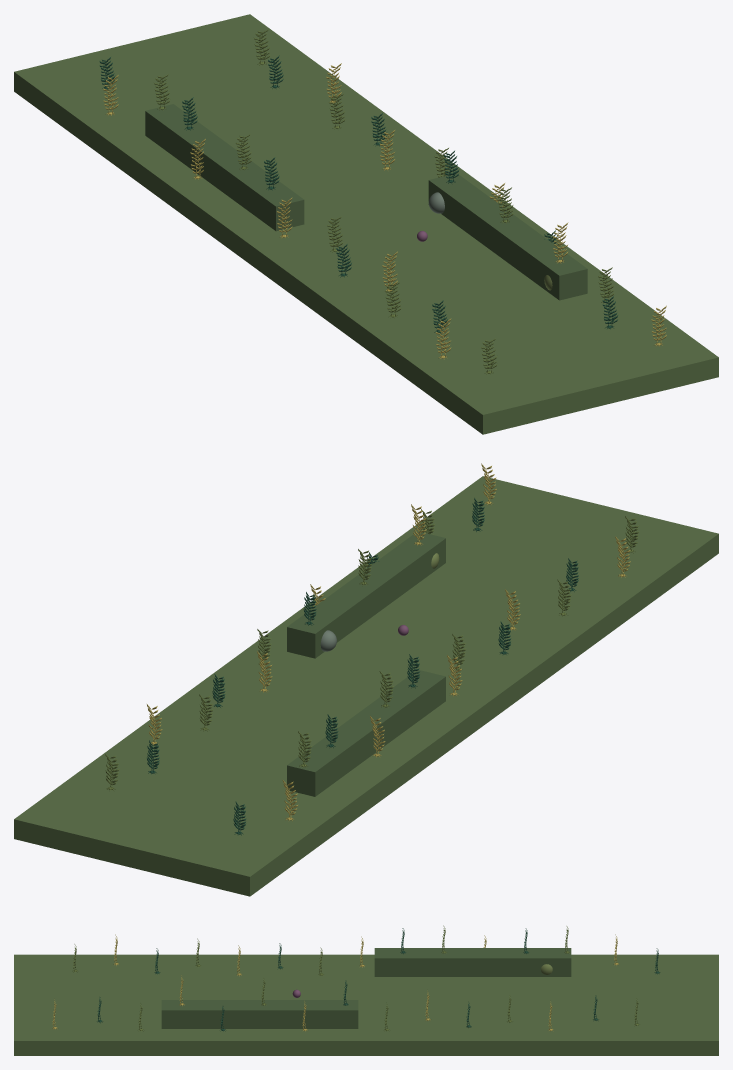
File: kelpworks.visual.glb
3 renders of one model, top to bottom at view 1: azimuth 30°, elevation 25°; view 2: azimuth 150°, elevation 25°; view 3: azimuth 270°, elevation 25°, orthographic. The views are drawn at different scales.
Visible parts, largest first — view 1: kelp-seabed, kelp-west-bank, kelp-east-bank; view 2: kelp-seabed, kelp-west-bank, kelp-east-bank; view 3: kelp-seabed, kelp-east-bank, kelp-west-bank.
Boxes of the visible parts, bbox=[...] form: kelp-seabed: bbox=[14, 14, 718, 434]; kelp-west-bank: bbox=[145, 104, 304, 231]; kelp-east-bank: bbox=[428, 173, 587, 300]; kelp-seabed: bbox=[14, 476, 718, 896]; kelp-west-bank: bbox=[287, 670, 445, 796]; kelp-east-bank: bbox=[287, 531, 445, 658]; kelp-seabed: bbox=[14, 954, 718, 1055]; kelp-east-bank: bbox=[161, 1000, 358, 1028]; kelp-west-bank: bbox=[374, 948, 571, 976].
Bounding box in the file's own units: 50 × 16.89 × 172.
